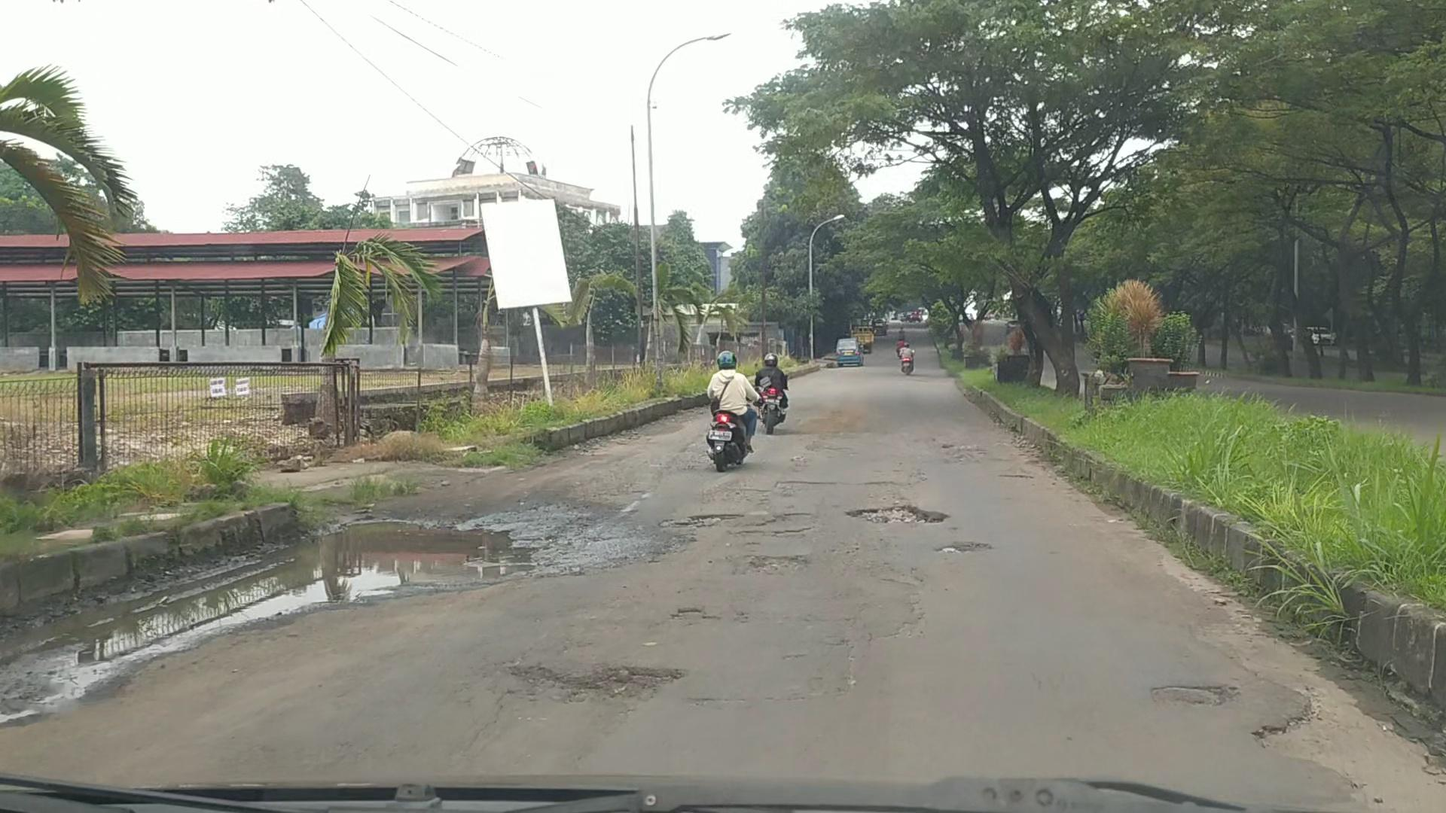pothole: (2, 512, 557, 687), (1253, 644, 1445, 800), (521, 659, 672, 698), (853, 504, 948, 530), (1150, 671, 1233, 700), (744, 551, 806, 578), (668, 510, 743, 527), (943, 538, 992, 550)
